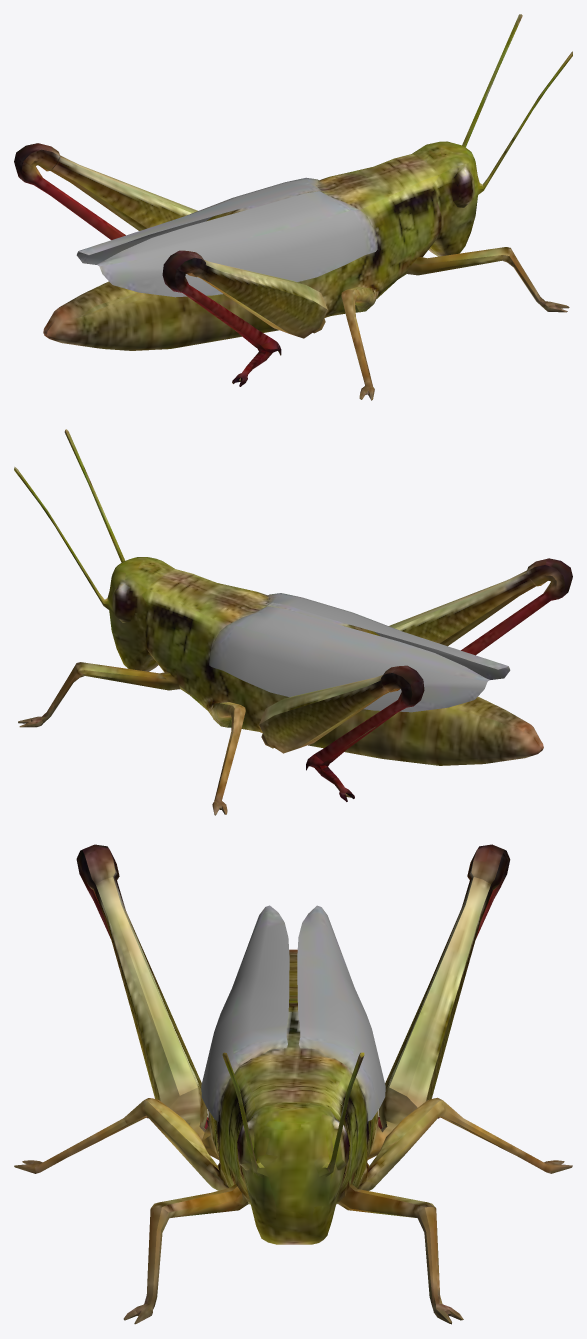
File: grasshopper.glb
3 views of the same model, one above another, from view 1: azimuth 30°, elevation 25°; view 2: azimuth 150°, elevation 25°; view 3: azimuth 270°, elevation 25° (orthographic). The views are drawn at different scales.
Visible parts, largest first — view 1: grasshopper; view 2: grasshopper; view 3: grasshopper.
Boxes of the visible parts, bbox=[...] form: grasshopper: bbox=[14, 14, 572, 400]; grasshopper: bbox=[14, 429, 572, 815]; grasshopper: bbox=[14, 844, 572, 1324].
Bounding box in the file's own units: 0.1 × 0.0427 × 0.0723.
1 material, 1 textured.
